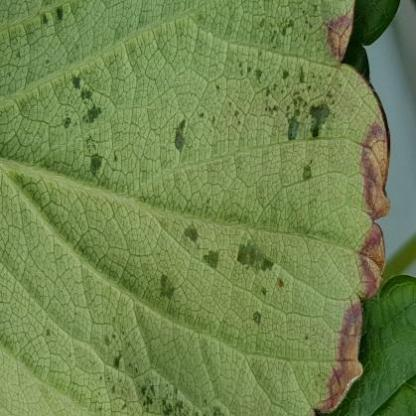Strawberry_Angular_LeafSpot: (1, 0, 392, 415)
